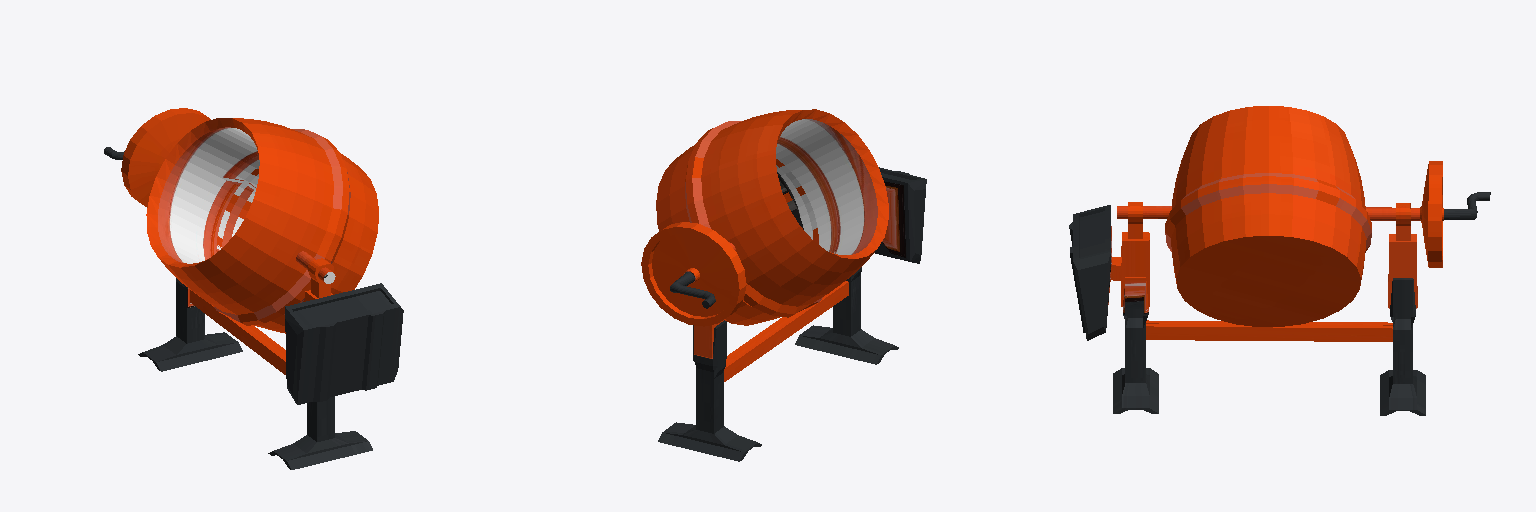
3 renders of one model, left to right at view 1: azimuth 30°, elevation 25°; view 2: azimuth 150°, elevation 25°; view 3: azimuth 270°, elevation 25°, orthographic.
Parts seen in each view (by area): view 1: pSphere2, pCube2, pCube1, pCylinder2; view 2: pSphere2, pCylinder2, pCube1, pCube2; view 3: pSphere2, pCube2, pCube1, pCylinder2.
Boxes of the visible parts, x1=… form: pSphere2: x1=146, y1=118, x2=378, y2=333; pCube2: x1=268, y1=258, x2=403, y2=469; pCube1: x1=138, y1=278, x2=285, y2=374; pCylinder2: x1=104, y1=108, x2=210, y2=207; pSphere2: x1=656, y1=109, x2=888, y2=325; pCylinder2: x1=641, y1=222, x2=746, y2=326; pCube1: x1=658, y1=281, x2=848, y2=461; pCube2: x1=795, y1=167, x2=926, y2=364; pSphere2: x1=1165, y1=106, x2=1371, y2=326; pCube2: x1=1069, y1=202, x2=1158, y2=413; pCube1: x1=1146, y1=203, x2=1425, y2=415; pCylinder2: x1=1366, y1=161, x2=1490, y2=267.
Size of the model in its own units: 3.18 by 4.36 by 5.89.
Materials: 1 (1 with a texture image).